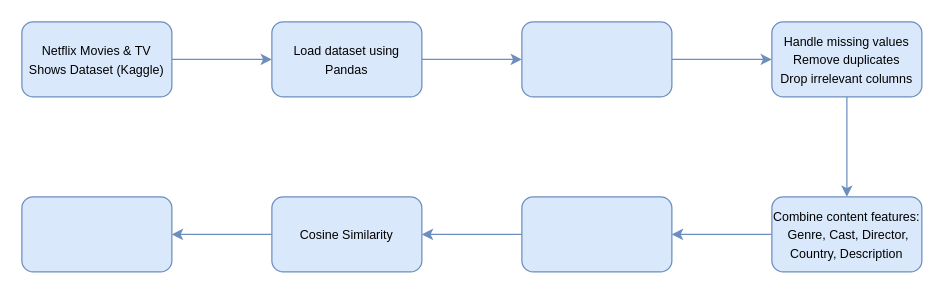
Some shapes in this 944 by 294 pixel diagram are drawn without their labels. Each missing label, with the centre of its shape:
Shape Head() Columns Data Types: the point at 596,59
TF-IDF Vectorization (Convert text → numerical features): the point at 596,234
Top-N similar titles based on selected movie/show: the point at 96,234
